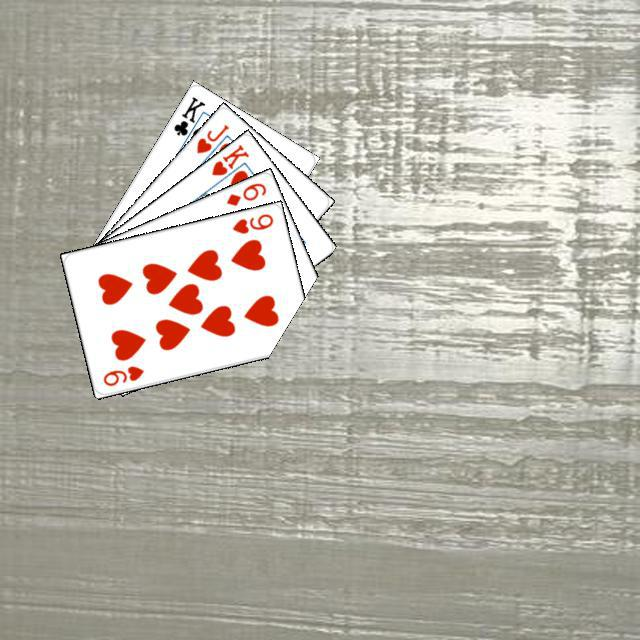6d: (221, 178, 268, 208)
9h: (98, 361, 146, 388), (227, 209, 275, 235)
Jh: (191, 119, 231, 155)
Kc: (168, 92, 207, 146)
Kh: (207, 139, 251, 187)
